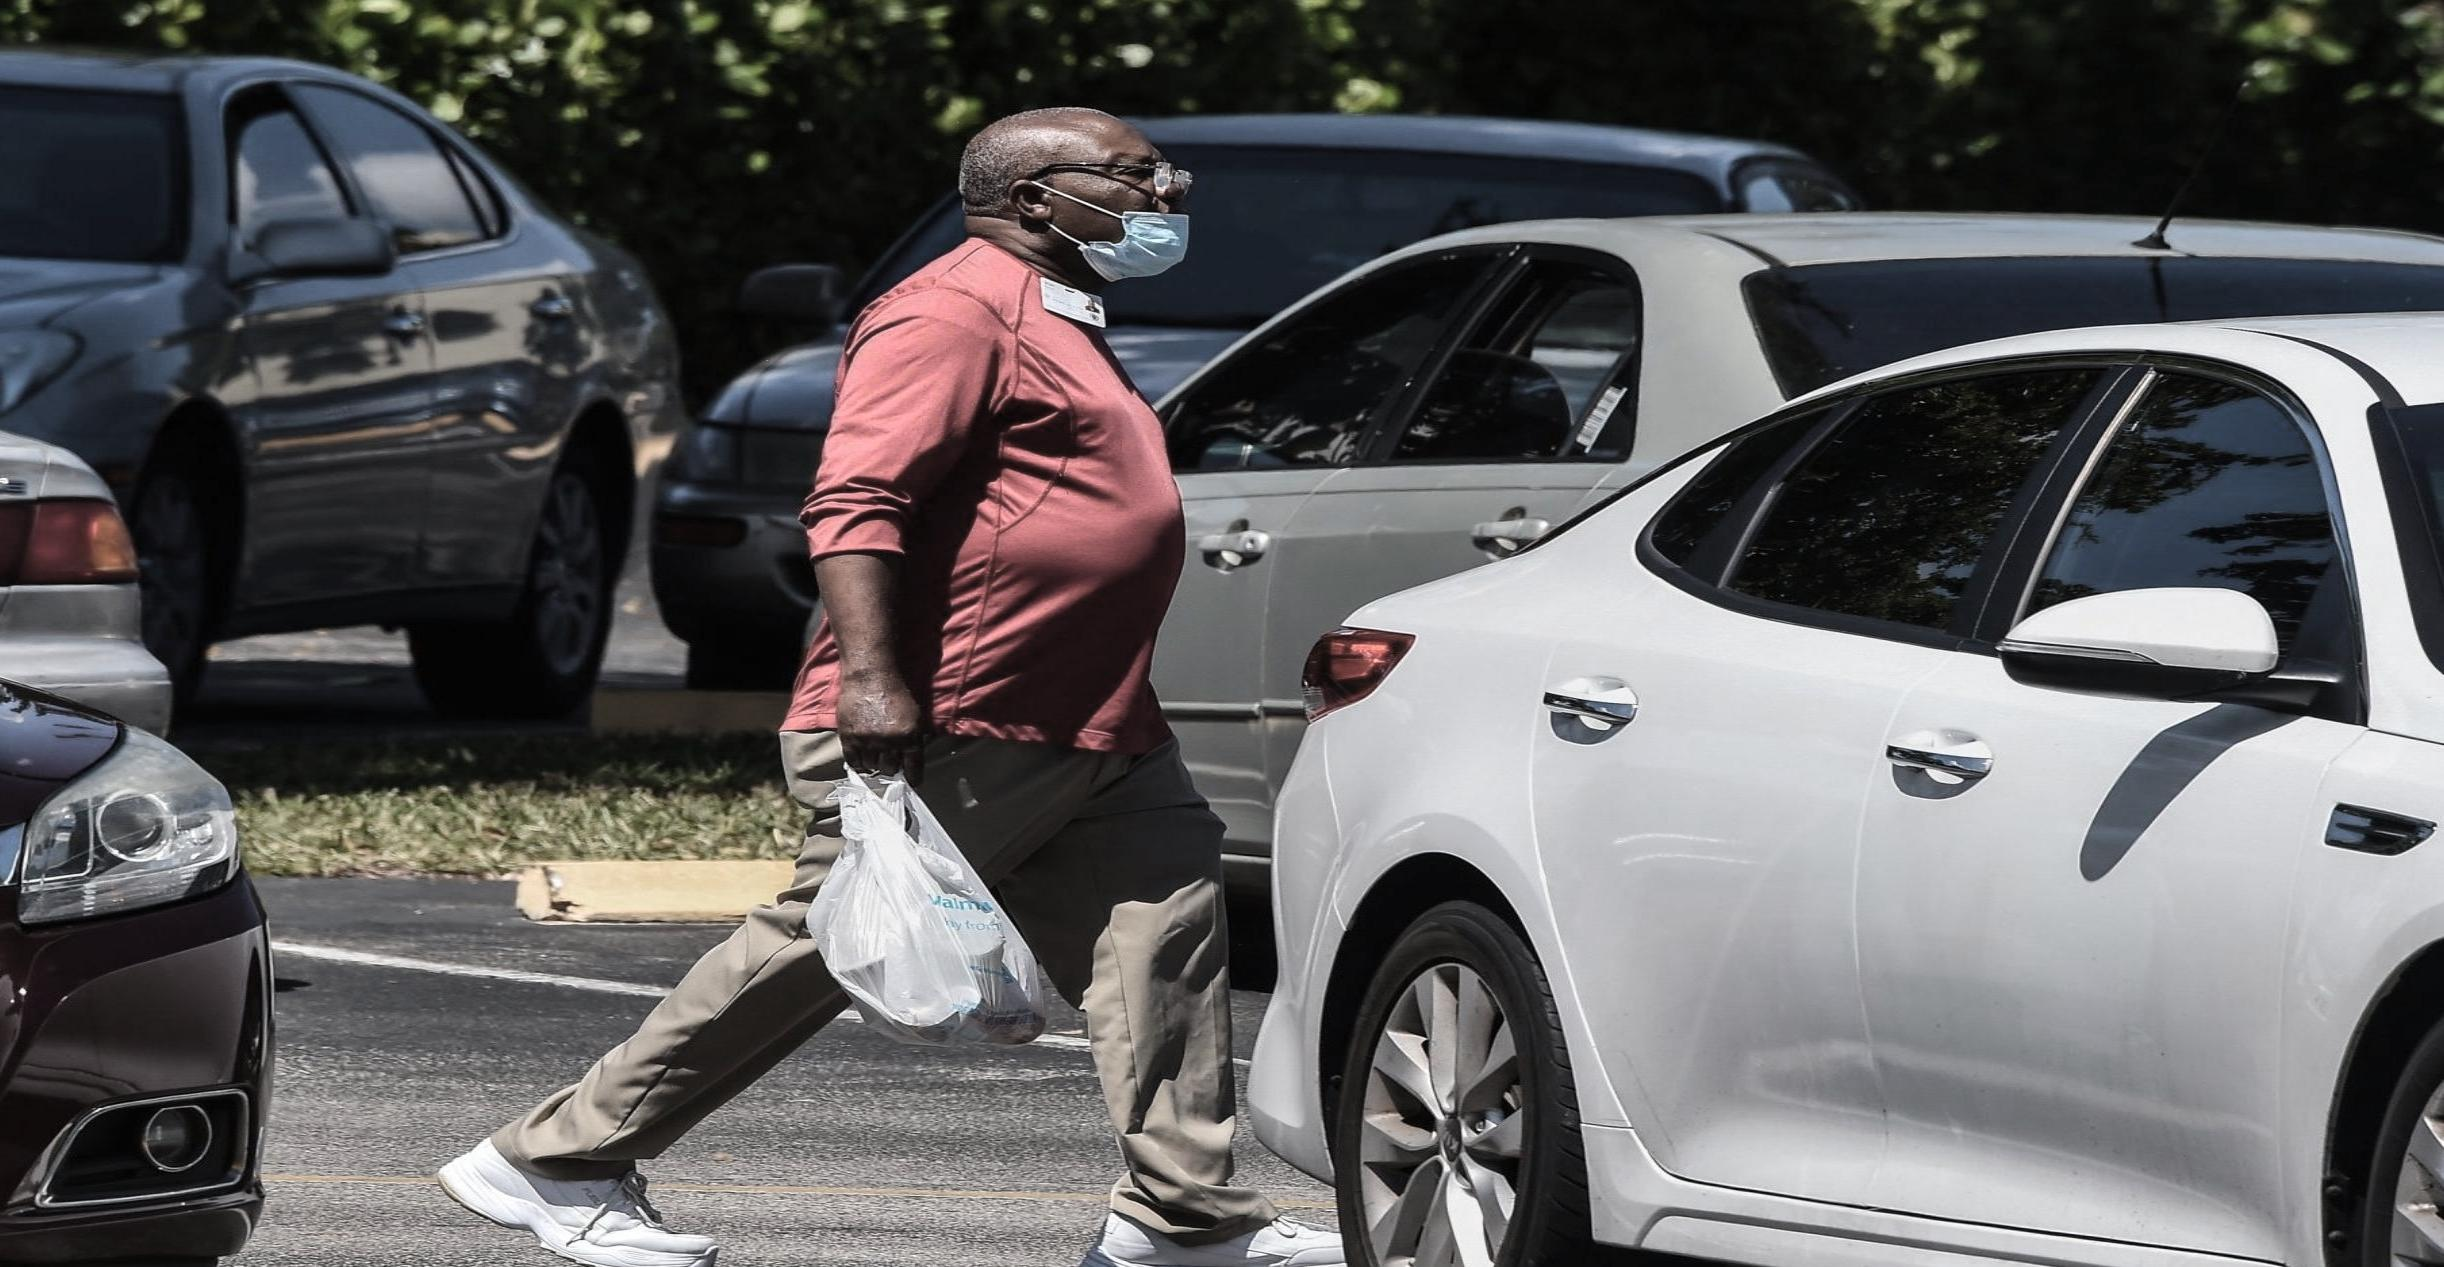mask_weared_incorrect: (988, 98, 1239, 318), (942, 106, 1204, 295)
